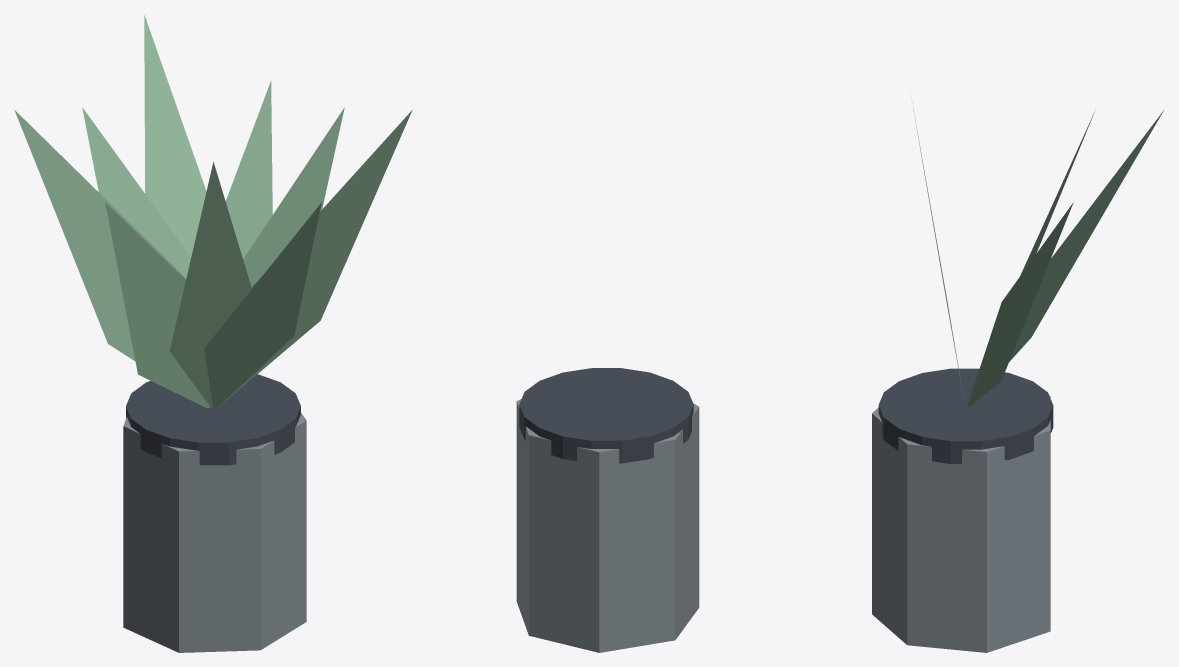
File: 36_PS_MinimalCornerPlanter.glb
The picture shows the model from 3 angles, left to right: view 1: azimuth 30°, elevation 25°; view 2: azimuth 150°, elevation 25°; view 3: azimuth 270°, elevation 25°; orthographic projection.
Parts seen in each view (by area): view 1: PS_MinimalCornerPlanter; view 2: PS_MinimalCornerPlanter; view 3: PS_MinimalCornerPlanter.
Part boxes in pixels (left/top/right/bottom): PS_MinimalCornerPlanter: left=14, top=15, right=412, bottom=652; PS_MinimalCornerPlanter: left=516, top=368, right=699, bottom=652; PS_MinimalCornerPlanter: left=872, top=103, right=1163, bottom=652.
Size of the model in its own units: 1.03 by 1.74 by 1.09.
